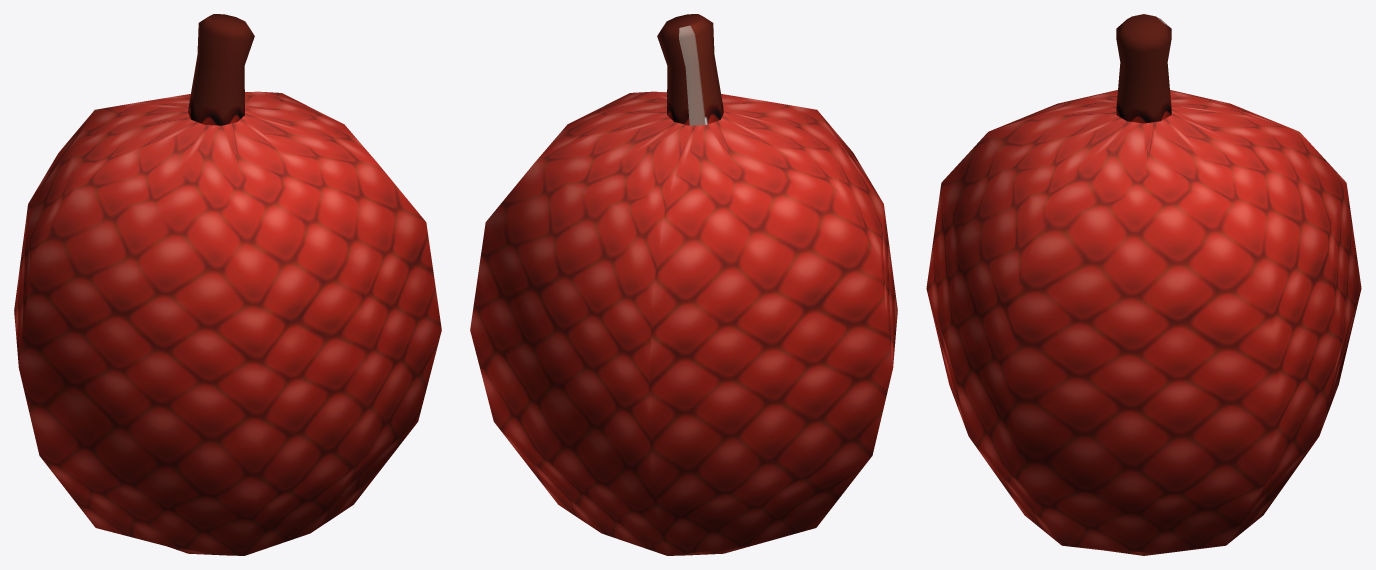
The model's file is Durian.fbx.
3 renders of one model, left to right at view 1: azimuth 30°, elevation 25°; view 2: azimuth 150°, elevation 25°; view 3: azimuth 270°, elevation 25°, orthographic.
Visible parts, largest first — view 1: Durian; view 2: Durian; view 3: Durian.
Part boxes in pixels (x1,y1,x2,y2): Durian: (14,14,441,555); Durian: (470,14,897,555); Durian: (926,14,1361,555).
Bounding box in the file's own units: 64.4 × 84.89 × 64.14.
